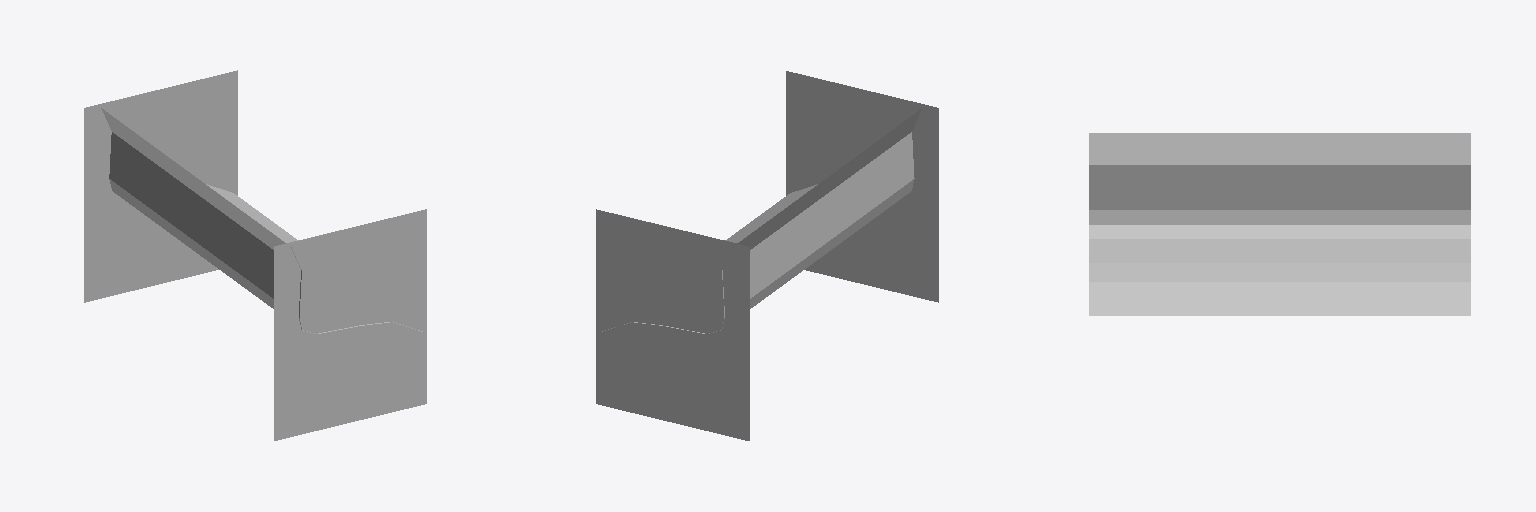
File: bench1.obj
3 renders of one model, left to right at view 1: azimuth 30°, elevation 25°; view 2: azimuth 150°, elevation 25°; view 3: azimuth 270°, elevation 25°, orthographic.
Parts seen in each view (by area): view 1: bench_Plane.001; view 2: bench_Plane.001; view 3: bench_Plane.001.
Part boxes in pixels (left/top/right/bottom): bench_Plane.001: left=84, top=70, right=426, bottom=440; bench_Plane.001: left=596, top=71, right=938, bottom=440; bench_Plane.001: left=1089, top=133, right=1470, bottom=315.
Bounding box in the file's own units: 2.86 × 3.46 × 6.15.